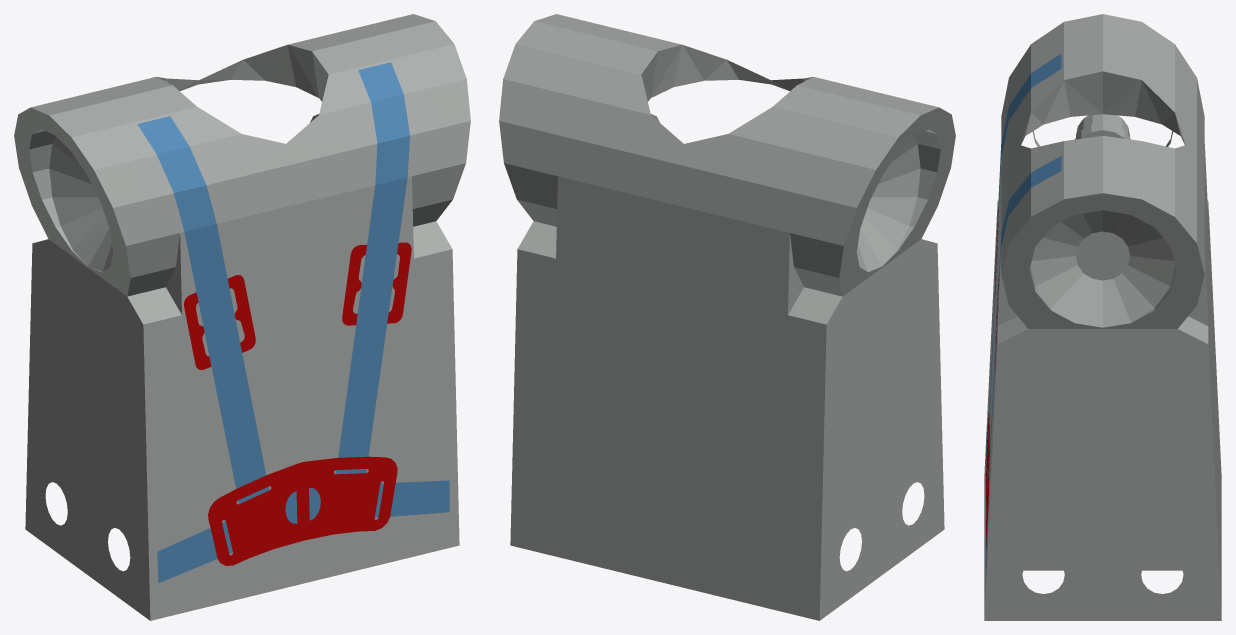
3 renders of one model, left to right at view 1: azimuth 30°, elevation 25°; view 2: azimuth 150°, elevation 25°; view 3: azimuth 270°, elevation 25°, orthographic. The views are drawn at different scales.
Visible parts, largest first — view 1: world; view 2: world; view 3: world.
Part boxes in pixels (<box>): world: <box>14,14,470,620</box>; world: <box>499,14,955,620</box>; world: <box>984,14,1221,620</box>.
Bounding box in the file's own units: 0.02 × 0.0232 × 0.0112.
